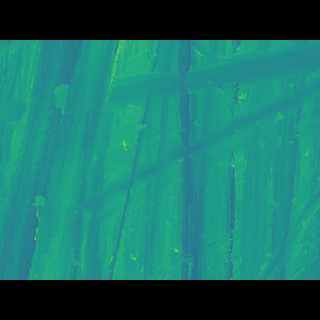Loch: (75, 71, 320, 215), (0, 69, 120, 250)
